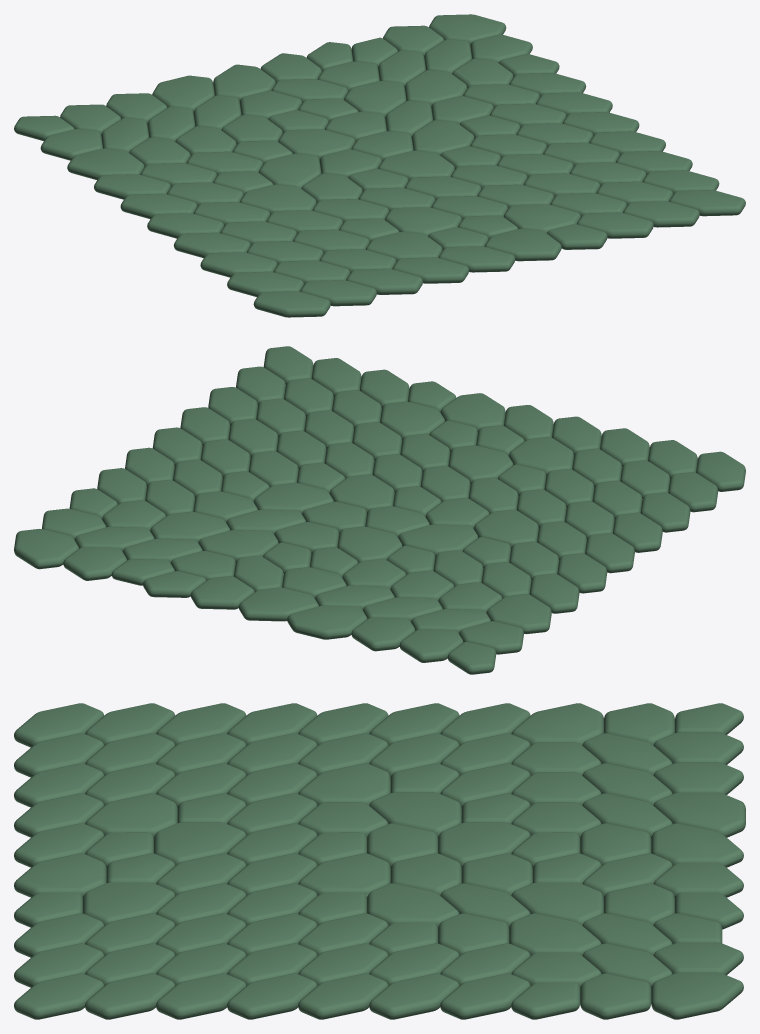
Rendered from floor.glb.
3 renders of one model, top to bottom at view 1: azimuth 30°, elevation 25°; view 2: azimuth 150°, elevation 25°; view 3: azimuth 270°, elevation 25°, orthographic. The views are drawn at different scales.
Parts seen in each view (by area): view 1: floor; view 2: floor; view 3: floor.
Part boxes in pixels (box(x1,y1,x2,y2)): floor: box(14, 14, 745, 317); floor: box(14, 346, 745, 674); floor: box(14, 703, 745, 1019).
Bounding box in the file's own units: 18.68 × 0.35 × 18.73.
